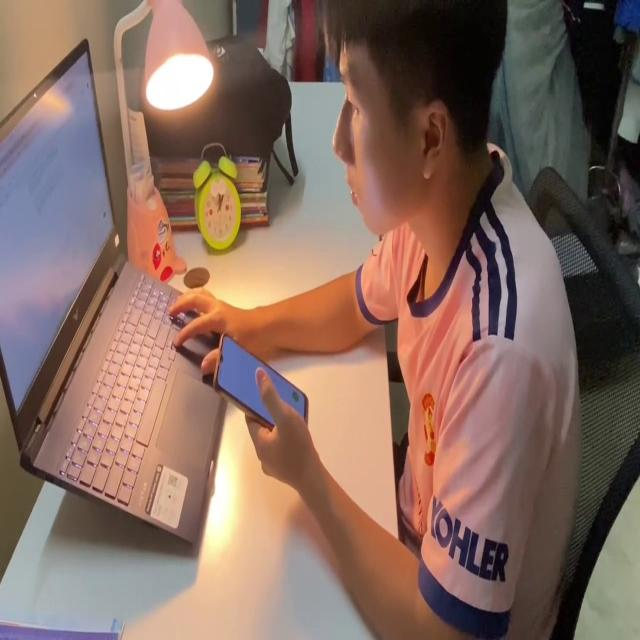laptop: (0, 34, 232, 550)
phone: (211, 327, 310, 450)
student: (169, 0, 583, 640)
